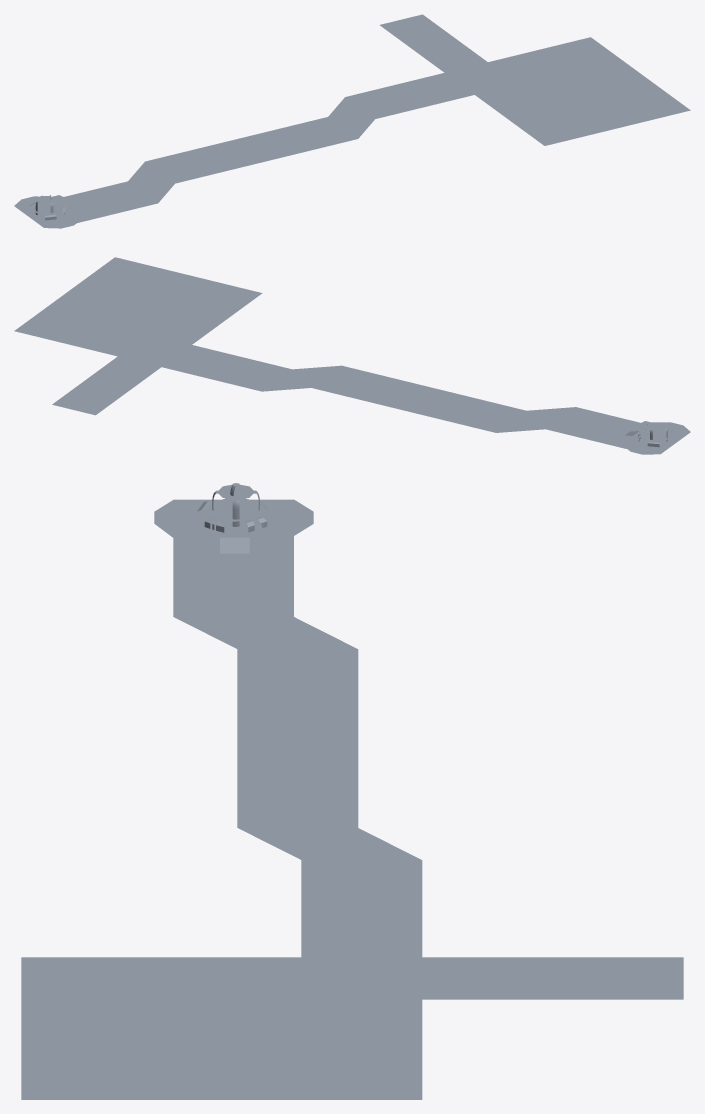
Rendered from gltf__Models__map__Village__waterPark__waterPark_mergedAlpha00.glb.
The picture shows the model from 3 angles, top to bottom: view 1: azimuth 30°, elevation 25°; view 2: azimuth 150°, elevation 25°; view 3: azimuth 270°, elevation 25°; orthographic projection. The views are drawn at different scales.
Visible parts, largest first — view 1: waterPark_mergedAlpha_lv00; view 2: waterPark_mergedAlpha_lv00; view 3: waterPark_mergedAlpha_lv00.
Part boxes in pixels (x1,y1,x2,y2): waterPark_mergedAlpha_lv00: (14,14,690,228); waterPark_mergedAlpha_lv00: (14,257,690,454); waterPark_mergedAlpha_lv00: (21,483,683,1099).
Bounding box in the file's own units: 55.88 × 1.78 × 26.31.
2 materials, 2 textured.
